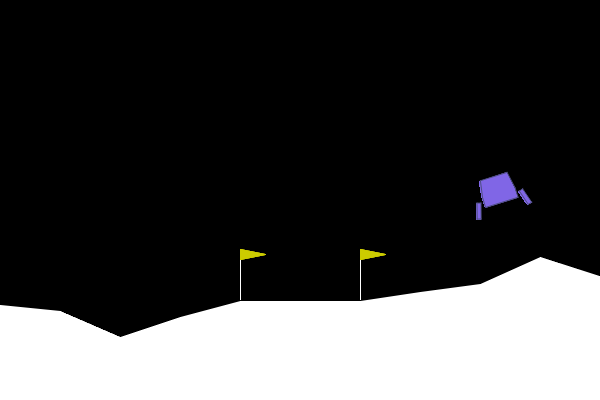lander: (464, 166, 533, 222)
